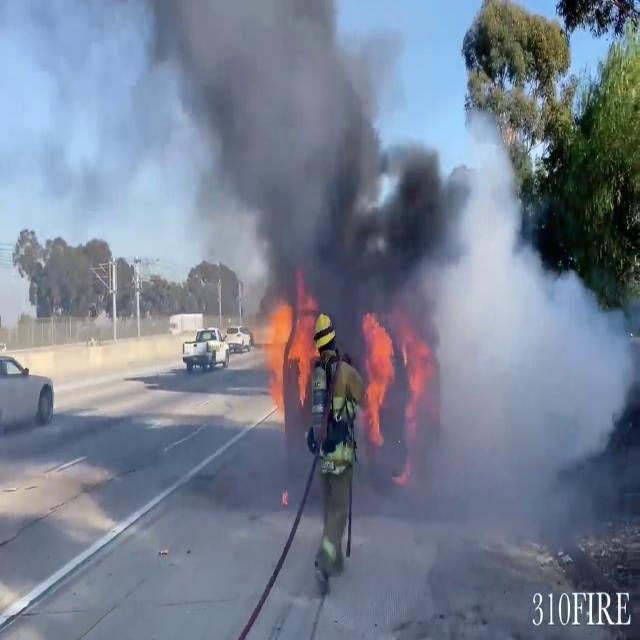Fire: (257, 295, 315, 404), (359, 311, 401, 439)
Smoke: (348, 105, 634, 603), (123, 0, 456, 317)
